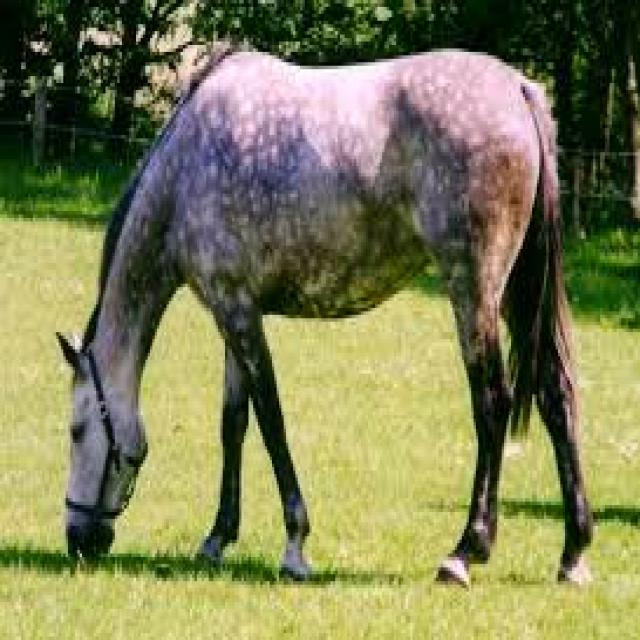horse: (59, 45, 591, 581)
